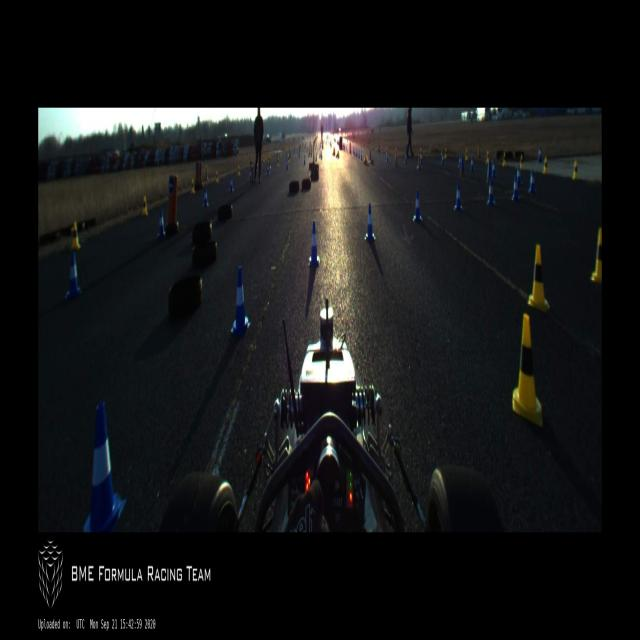blue_cone: (83, 402, 127, 532), (230, 264, 252, 338), (65, 253, 81, 300), (308, 219, 320, 267), (365, 204, 375, 242), (412, 190, 422, 222), (511, 175, 520, 201), (157, 210, 165, 239), (454, 183, 462, 211), (487, 179, 495, 206), (528, 170, 536, 193), (516, 164, 522, 185), (202, 188, 208, 207), (491, 160, 496, 178), (229, 175, 234, 192), (470, 157, 475, 171), (538, 146, 542, 162), (458, 154, 462, 168), (248, 169, 252, 182), (441, 152, 445, 165), (404, 152, 408, 165), (420, 152, 423, 165), (266, 163, 269, 175), (303, 154, 306, 166), (360, 150, 363, 160), (286, 158, 288, 170), (386, 150, 388, 162), (358, 148, 360, 158), (356, 148, 358, 157), (354, 148, 356, 155), (353, 146, 354, 153)
unknown_cone: (460, 154, 464, 175), (394, 148, 398, 166), (417, 154, 421, 169), (478, 144, 480, 158)
yellow_cone: (513, 314, 542, 426), (528, 244, 550, 311), (590, 228, 601, 282), (71, 222, 81, 250), (572, 160, 579, 180), (142, 196, 148, 216), (543, 155, 548, 173), (191, 179, 195, 193), (503, 152, 507, 166), (363, 154, 368, 164), (485, 151, 489, 163), (465, 148, 469, 160), (520, 154, 523, 168), (216, 171, 219, 183), (237, 165, 240, 177), (444, 148, 447, 160), (332, 147, 335, 156), (336, 151, 339, 158), (277, 157, 279, 166), (288, 154, 290, 163), (381, 145, 383, 154), (375, 144, 377, 151), (316, 153, 317, 161), (321, 151, 322, 158)
